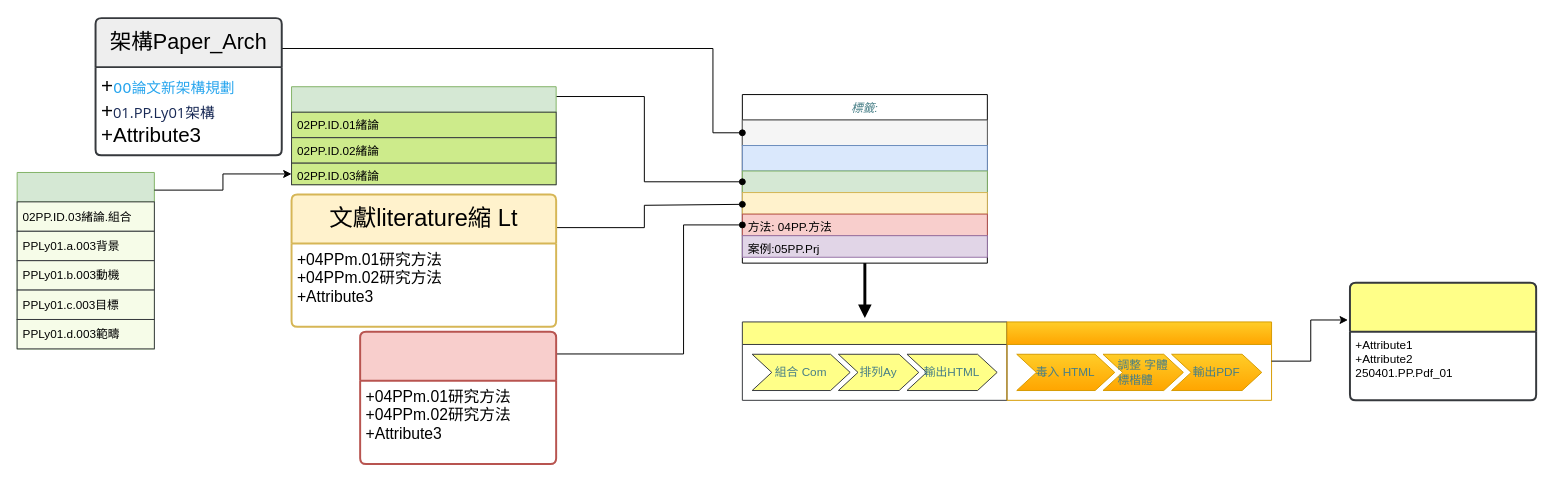
This 1554x481 diagram has some shape labels left out. The shapes that lost their labels are listed below. From the top down, each one's box as (x1, y1, x2, y2) in pixels, then its label:
(291, 86, 556, 185): 緒論introduction縮 ID
(741, 119, 987, 146): 架構 :00PP.架構
(741, 145, 987, 171): 摘要
(741, 170, 987, 193): 緒論
(741, 192, 987, 214): 文獻
(16, 172, 154, 349): List
(741, 321, 1007, 400): Layout Flow
(1006, 321, 1272, 400): Layout Flow Work
(1348, 281, 1537, 401): Entity
(359, 330, 557, 465): 方法 means 縮 M
